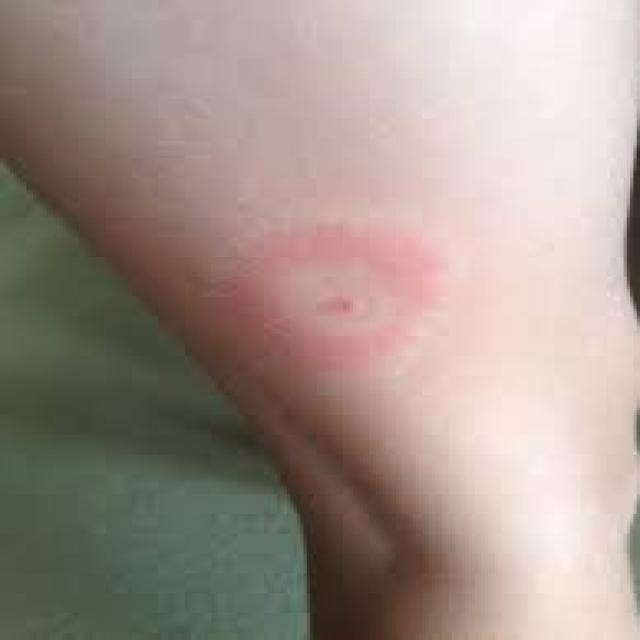kene: (232, 221, 454, 370)
